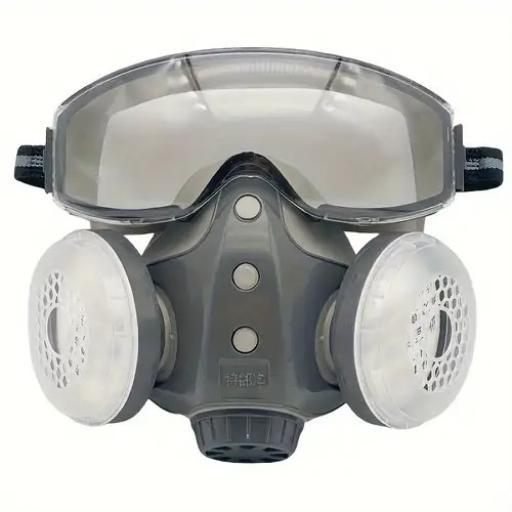mask: (10, 15, 507, 512)
